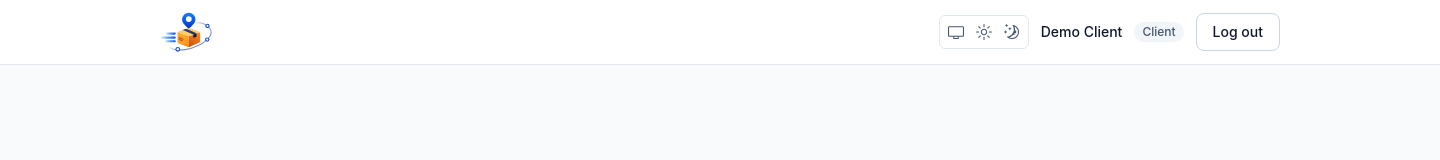
Test case: AppHeader › keeps the session and shows an alert when the API is down
The width and height of the screenshot is (1440, 160).
Click the button "Log out" at (1238, 32), box [1196,13,1280,51]
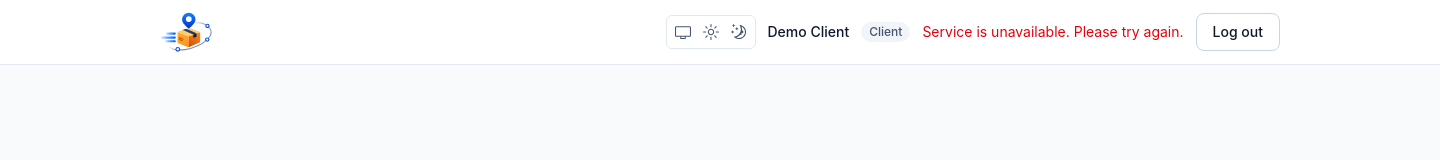
Check: the message reads "Service is unavailable. Please try again.", box [922,23,1184,40]
